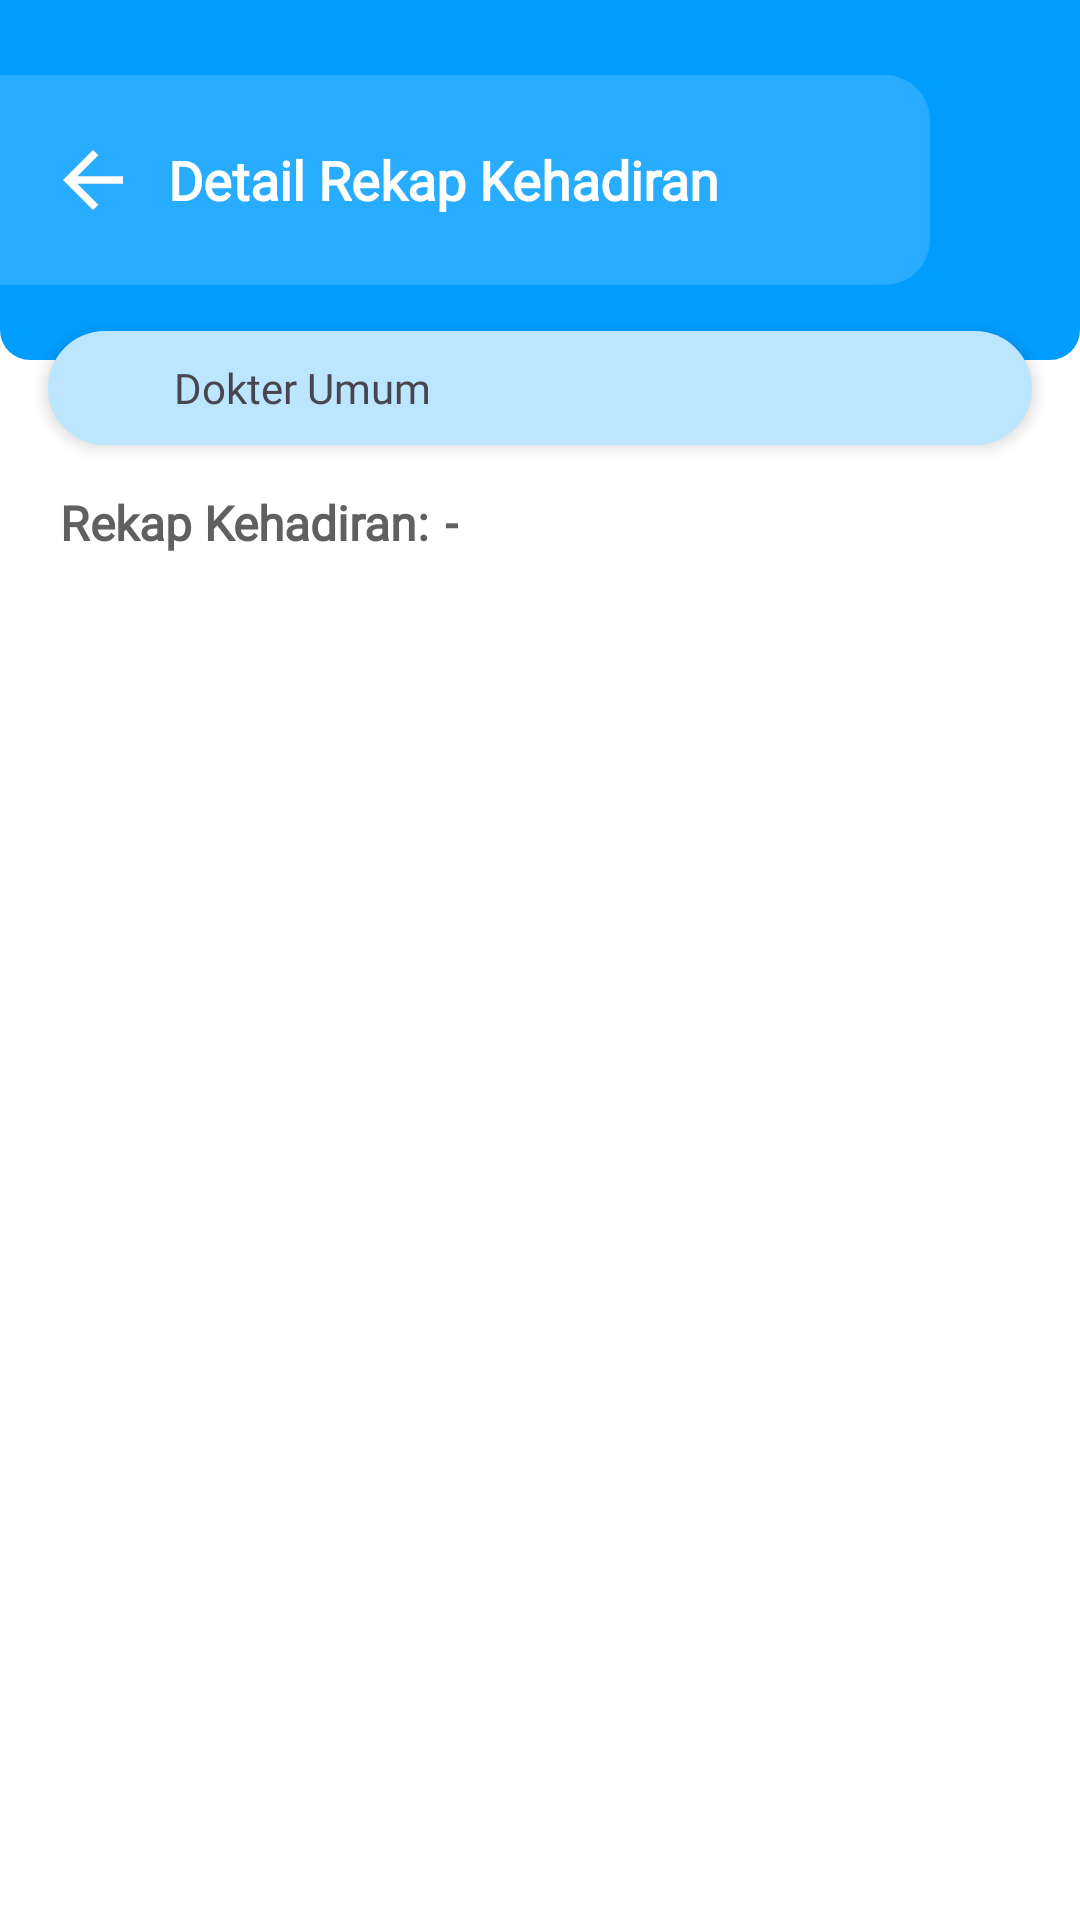

Point at icon controls on the screen. Image size 1080x1920, points as [x,y].
Back: [93,180]
